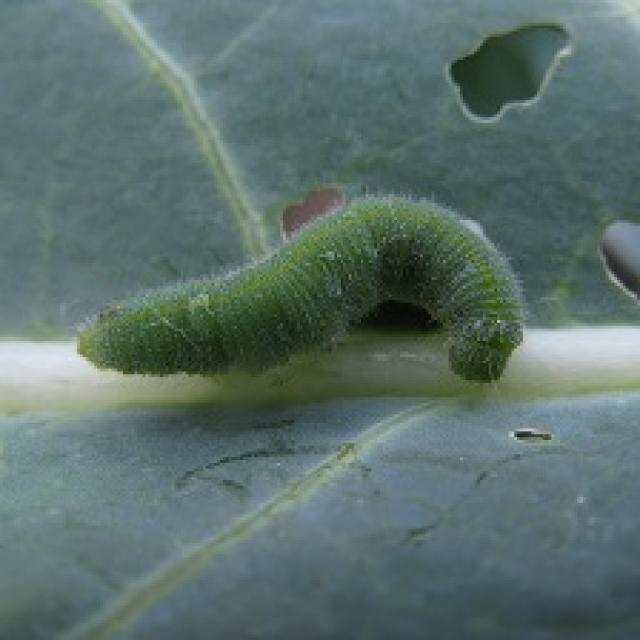Cabbage-worm: (71, 191, 533, 428)
